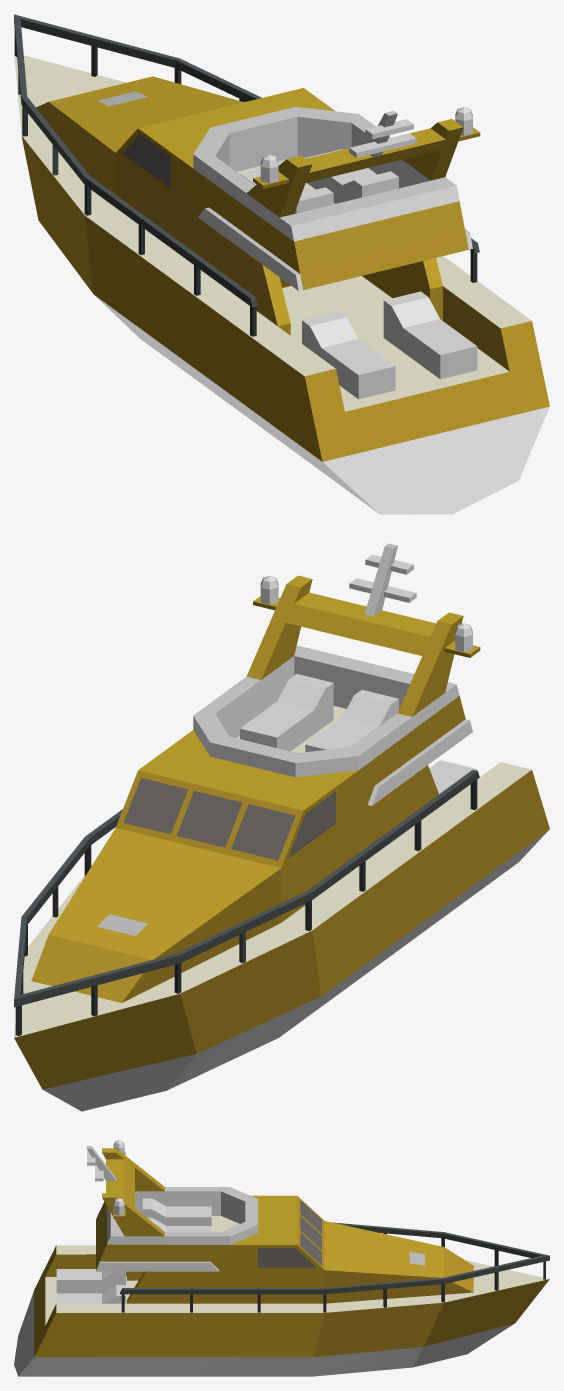
The model's file is FastBoat.fbx.
The picture shows the model from 3 angles, top to bottom: view 1: azimuth 30°, elevation 25°; view 2: azimuth 150°, elevation 25°; view 3: azimuth 270°, elevation 25°; orthographic projection. The views are drawn at different scales.
Visible parts, largest first — view 1: kuaiting1; view 2: kuaiting1; view 3: kuaiting1.
Part boxes in pixels (bbox=[...]): kuaiting1: bbox=[14, 14, 549, 514]; kuaiting1: bbox=[14, 543, 549, 1111]; kuaiting1: bbox=[14, 1140, 549, 1376].
Size of the model in its own units: 319 by 477 by 1066.
